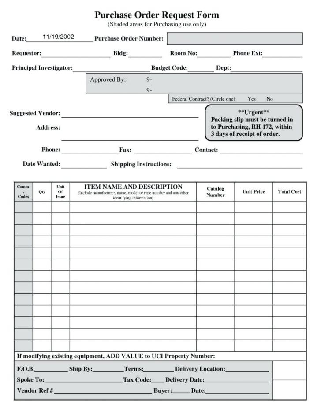textbox: (84, 72, 306, 97), (67, 199, 198, 214), (68, 257, 199, 272), (67, 315, 198, 330), (68, 223, 198, 238), (68, 280, 198, 295), (68, 326, 198, 341), (68, 337, 198, 352), (166, 31, 304, 45), (68, 234, 199, 248), (68, 246, 199, 260), (68, 211, 198, 225), (68, 269, 198, 283), (68, 292, 198, 306), (68, 304, 198, 318), (232, 222, 275, 237), (232, 281, 275, 296), (232, 315, 275, 330), (195, 199, 237, 214), (195, 210, 237, 225), (194, 223, 236, 238), (194, 257, 236, 272), (194, 269, 236, 284), (194, 280, 236, 295), (194, 292, 236, 307), (194, 303, 236, 318), (194, 326, 236, 341), (194, 337, 236, 352), (232, 234, 274, 249), (232, 292, 274, 307), (232, 327, 274, 342), (232, 338, 274, 353), (232, 199, 275, 213), (232, 211, 275, 225), (232, 246, 275, 260), (232, 257, 275, 271), (232, 269, 275, 283), (232, 304, 275, 318), (194, 234, 236, 248), (194, 246, 236, 260), (194, 315, 236, 329), (270, 199, 307, 214), (271, 338, 308, 352), (271, 327, 308, 341), (271, 315, 308, 329), (270, 304, 307, 318), (270, 292, 307, 306), (271, 280, 308, 294), (271, 268, 308, 282), (270, 257, 307, 271), (270, 246, 307, 260), (270, 234, 307, 248), (270, 223, 307, 237), (270, 211, 307, 225), (12, 199, 34, 214), (49, 199, 71, 214), (49, 211, 71, 226), (31, 211, 53, 226), (31, 234, 53, 249), (12, 245, 34, 260), (12, 257, 34, 272), (12, 268, 34, 283), (49, 280, 71, 295), (30, 280, 52, 295), (12, 280, 34, 295), (12, 292, 34, 307), (50, 292, 72, 307), (12, 315, 34, 330), (31, 315, 53, 330), (49, 326, 71, 341), (12, 326, 34, 341), (12, 338, 34, 353), (13, 211, 34, 226), (31, 199, 52, 214), (50, 222, 71, 237), (31, 257, 52, 272), (31, 292, 52, 307), (50, 315, 71, 330), (31, 326, 52, 341), (50, 337, 71, 352), (12, 223, 34, 237), (31, 223, 53, 237), (49, 234, 71, 248), (12, 234, 34, 248), (49, 258, 71, 272), (49, 269, 71, 283), (12, 304, 34, 318), (31, 338, 53, 352), (31, 246, 52, 260), (50, 246, 71, 260), (31, 269, 52, 283), (50, 304, 71, 318), (31, 304, 52, 318)
textline: (174, 157, 305, 170), (59, 107, 200, 119), (59, 131, 201, 142), (218, 143, 305, 155), (71, 62, 151, 74), (52, 385, 154, 394), (42, 372, 124, 383), (229, 62, 305, 73), (41, 47, 112, 58), (26, 33, 94, 44), (204, 386, 271, 396), (59, 144, 119, 155), (133, 144, 193, 155), (202, 375, 270, 384), (58, 158, 109, 169), (223, 362, 271, 373), (261, 48, 305, 59), (127, 47, 164, 58), (196, 47, 233, 58), (90, 362, 125, 373), (141, 362, 176, 373), (33, 362, 67, 373), (185, 62, 215, 73), (170, 385, 191, 394), (148, 374, 165, 383)
